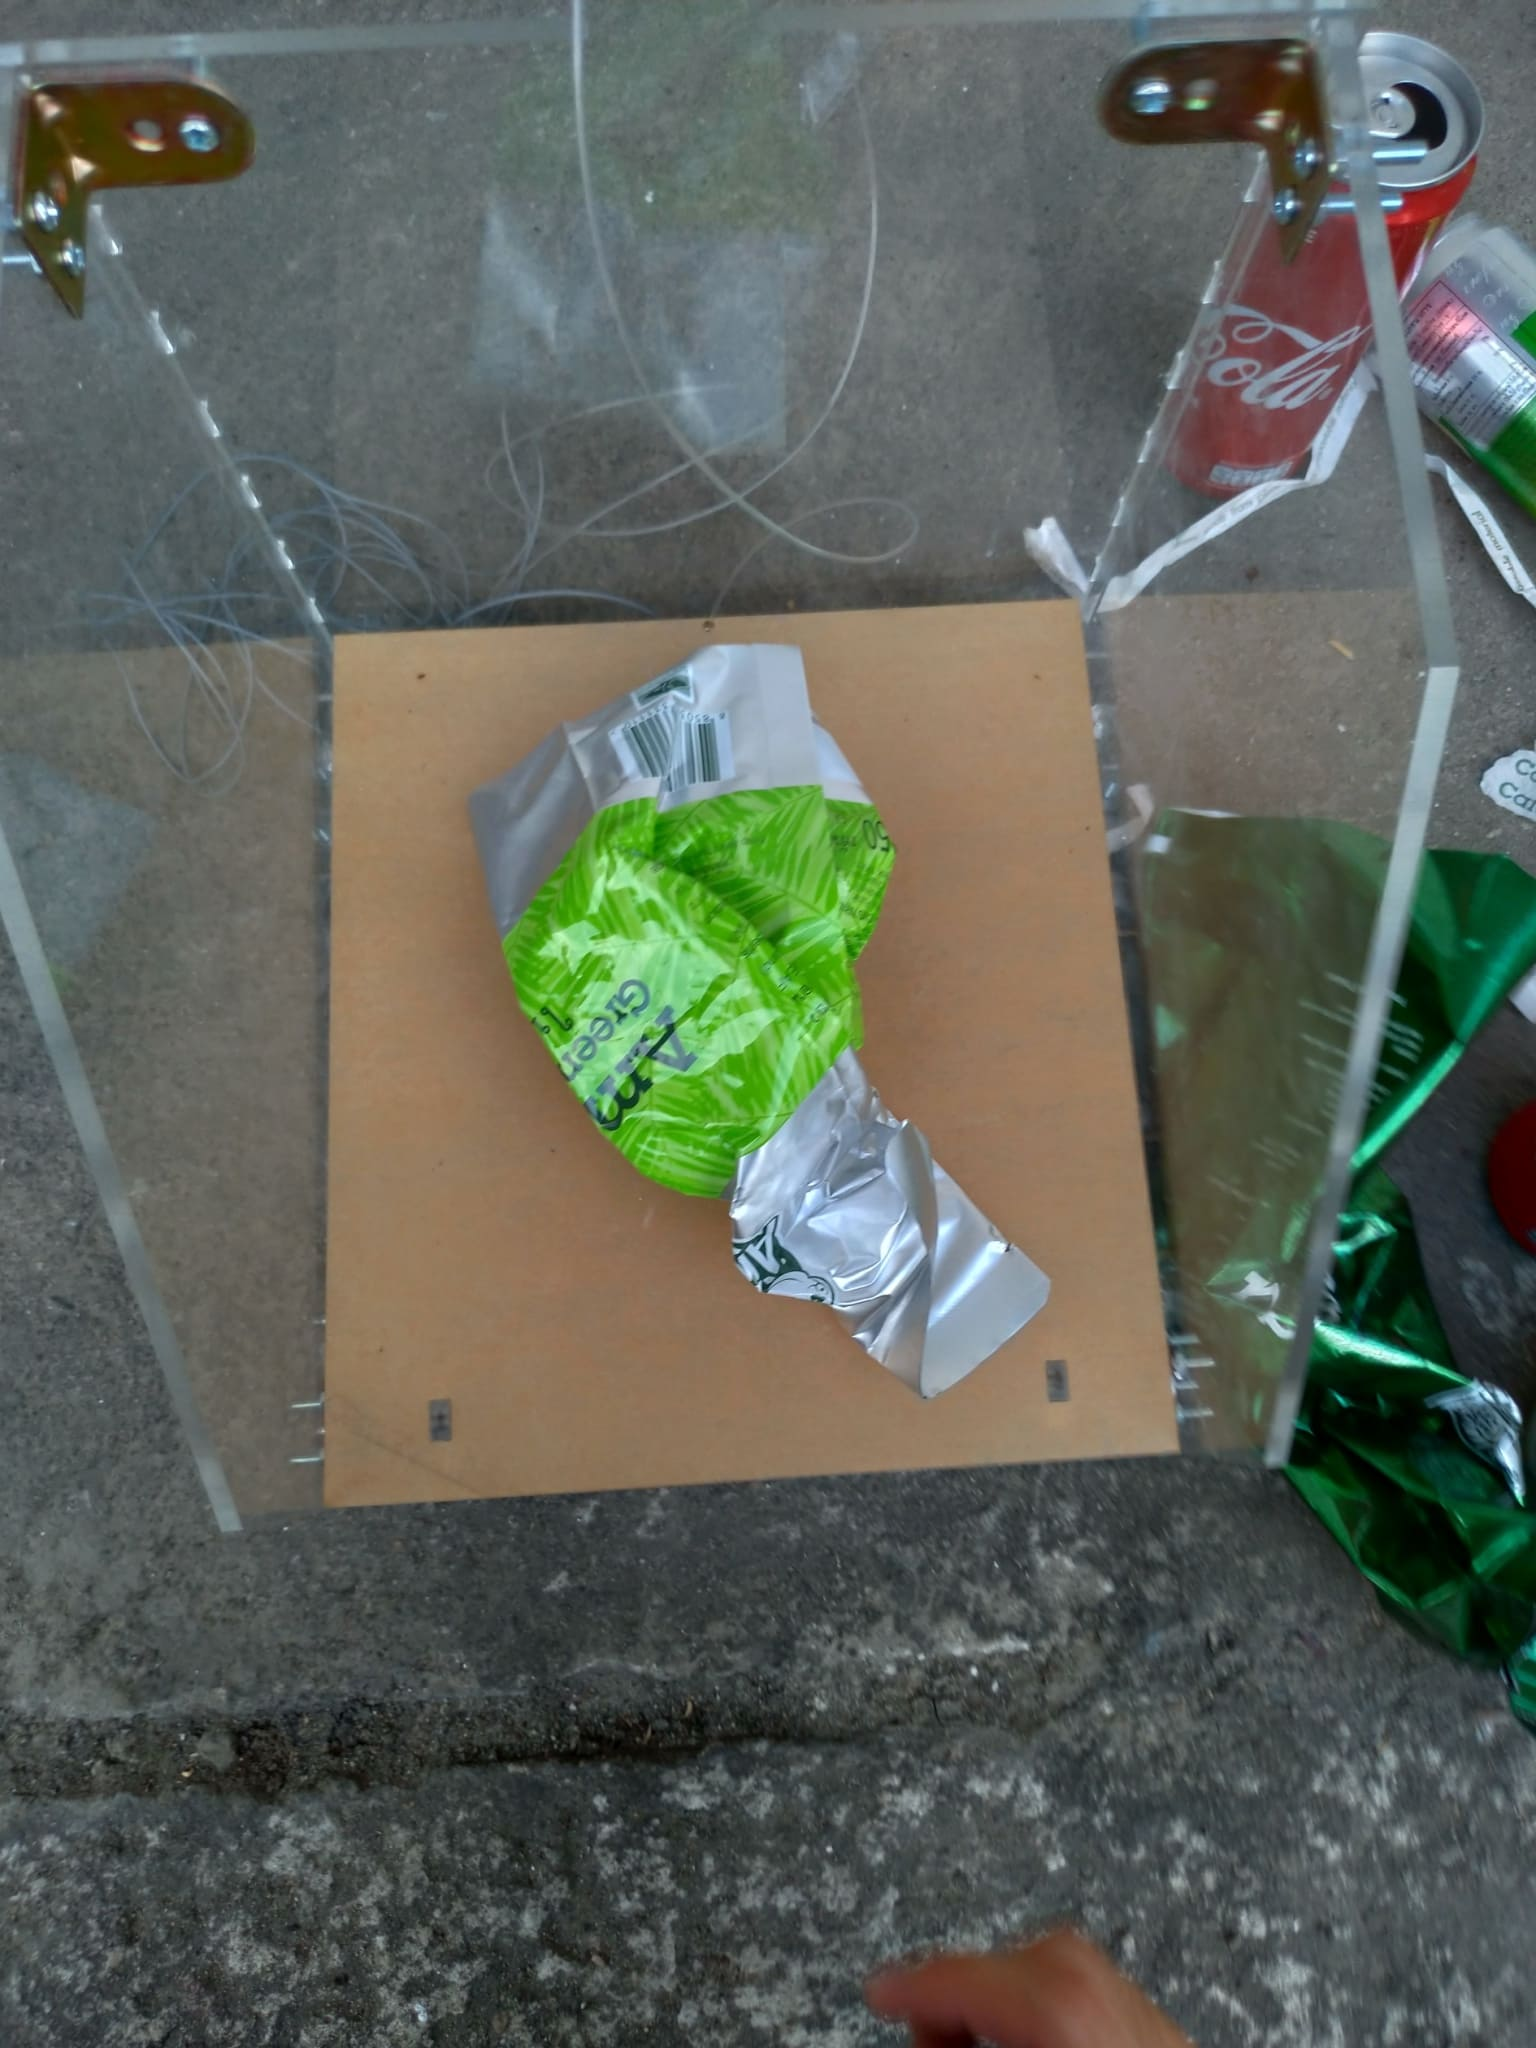AlCan: (1157, 35, 1483, 485), (1367, 205, 1536, 500)
Others: (473, 645, 1060, 1392), (1137, 789, 1536, 1717)
